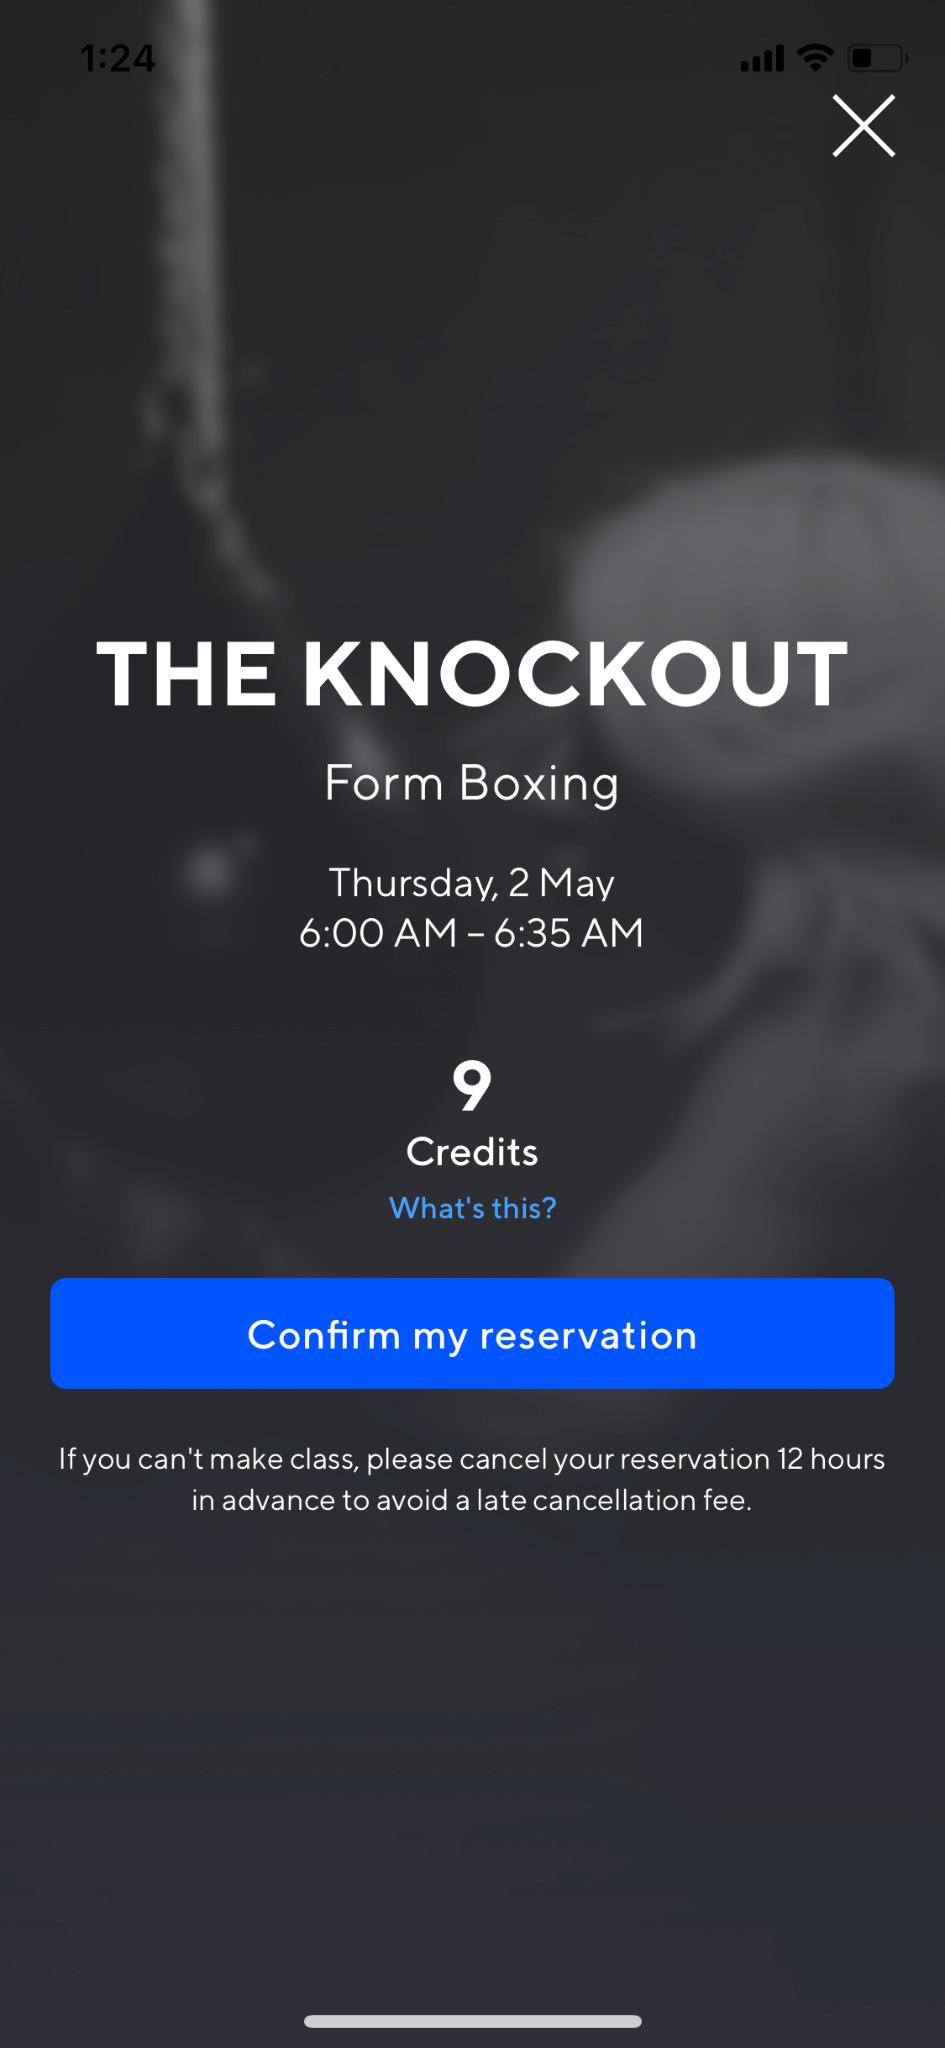Buttons: (42, 1260, 908, 1408), (820, 86, 912, 175)
